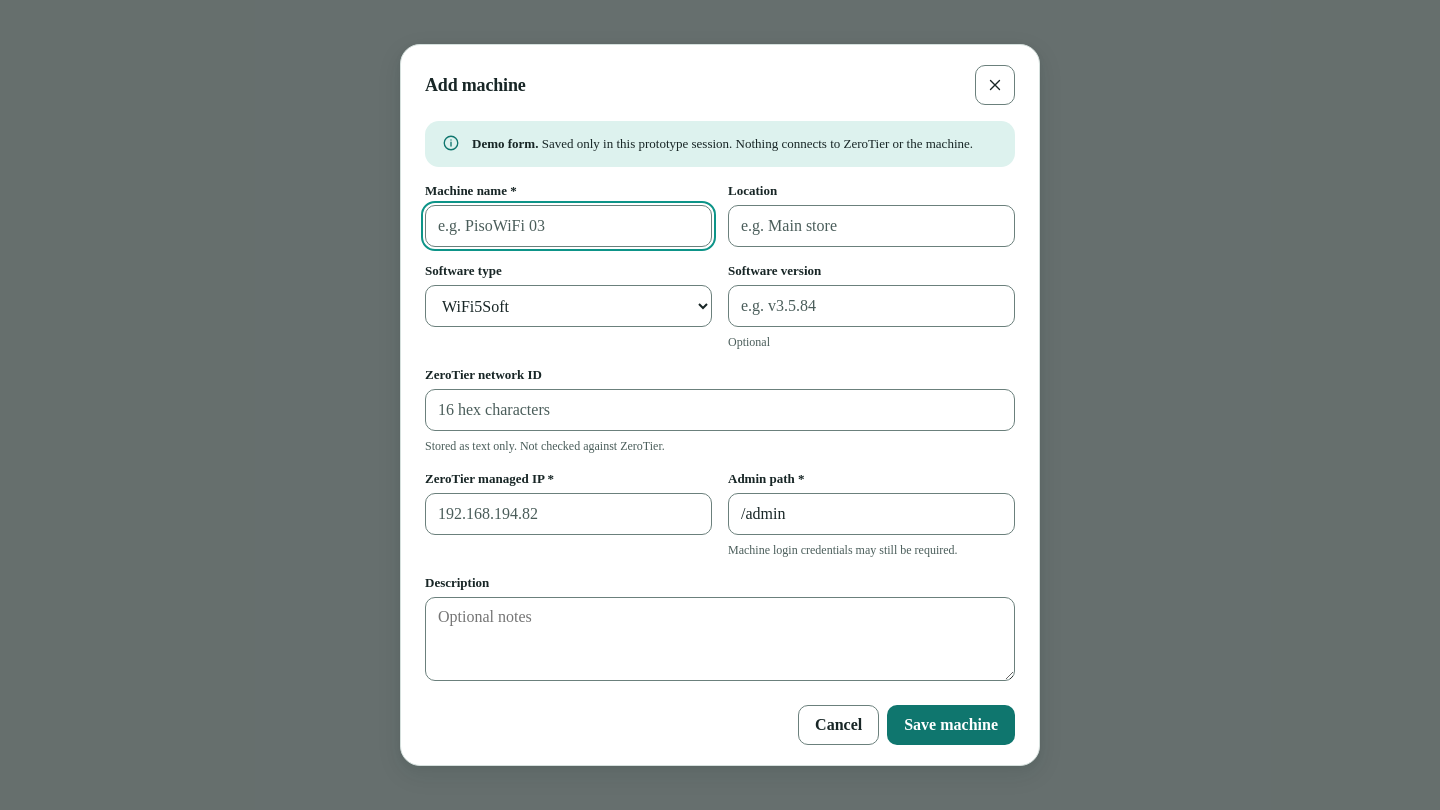
Test: Add / Edit machine dialog › shows inline errors and focuses the first invalid field
This screenshot has width=1440, height=810.
Click the button "Save machine" at (951, 725), box [887, 705, 1015, 745]
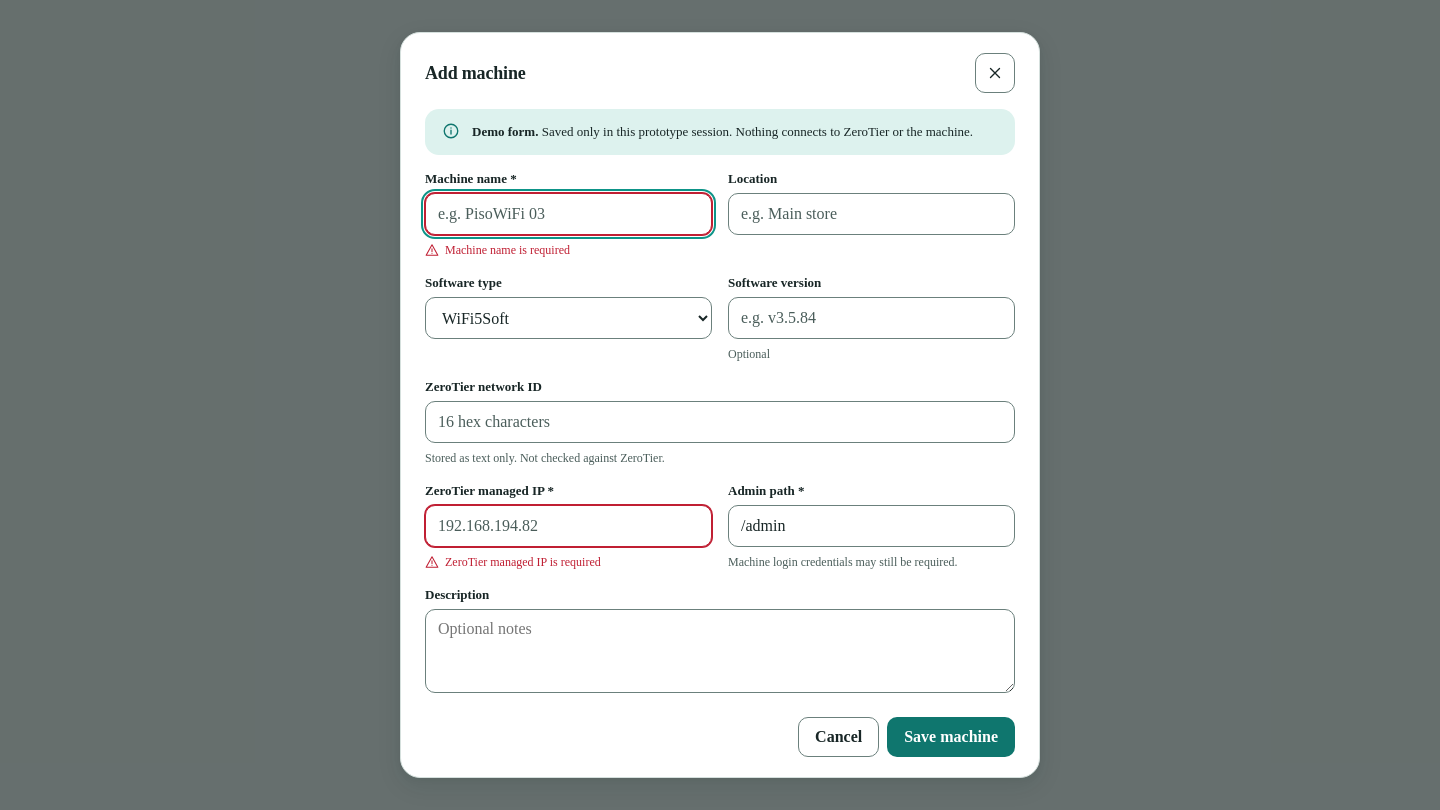
Result: the text "Machine name is required" is shown at [425, 243, 570, 257]
Result: the text "ZeroTier managed IP is required" is shown at [425, 555, 601, 569]
Type "X" into the field labelled "Machine name *" at (568, 214), box [425, 193, 712, 235]
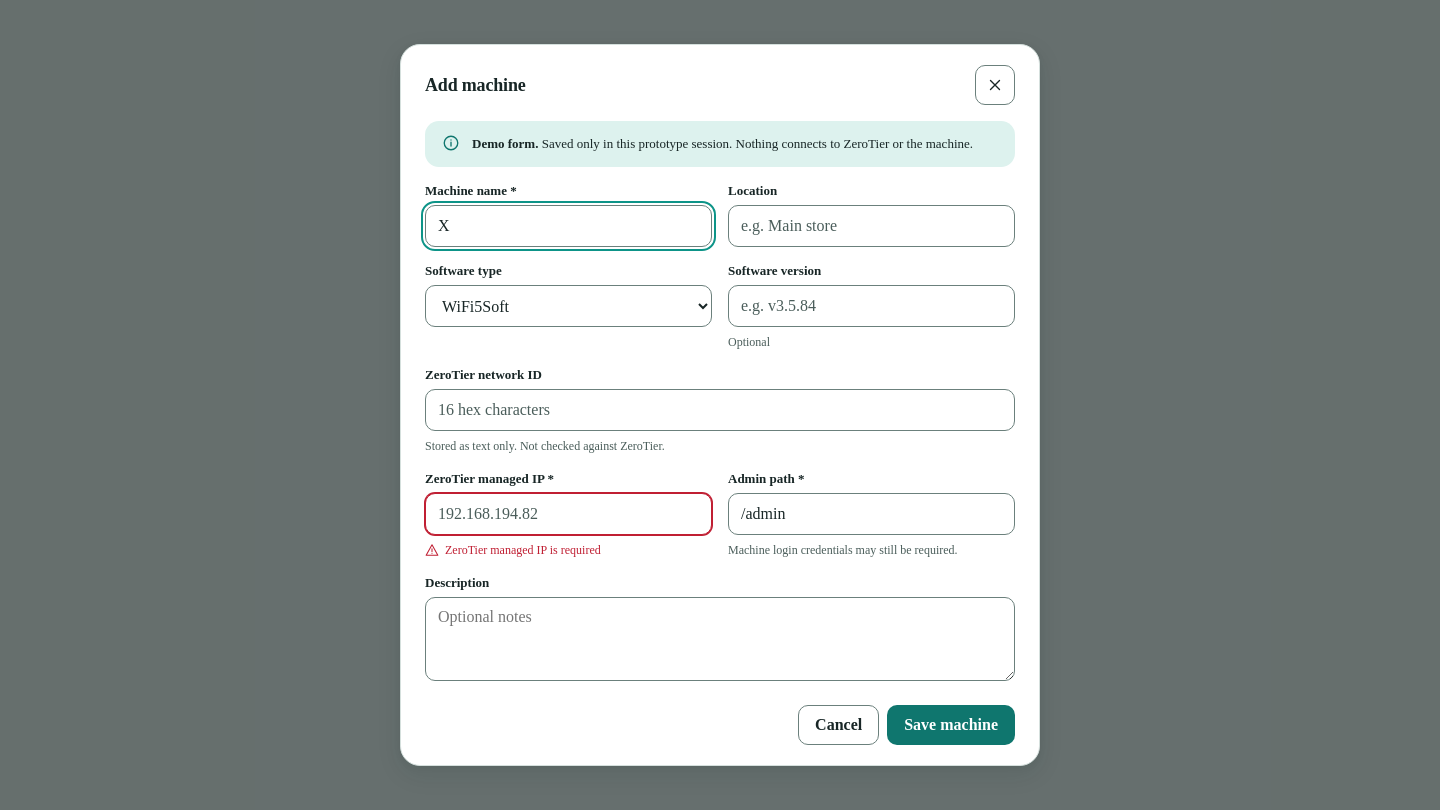
Result: the text "Machine name is required" is gone
